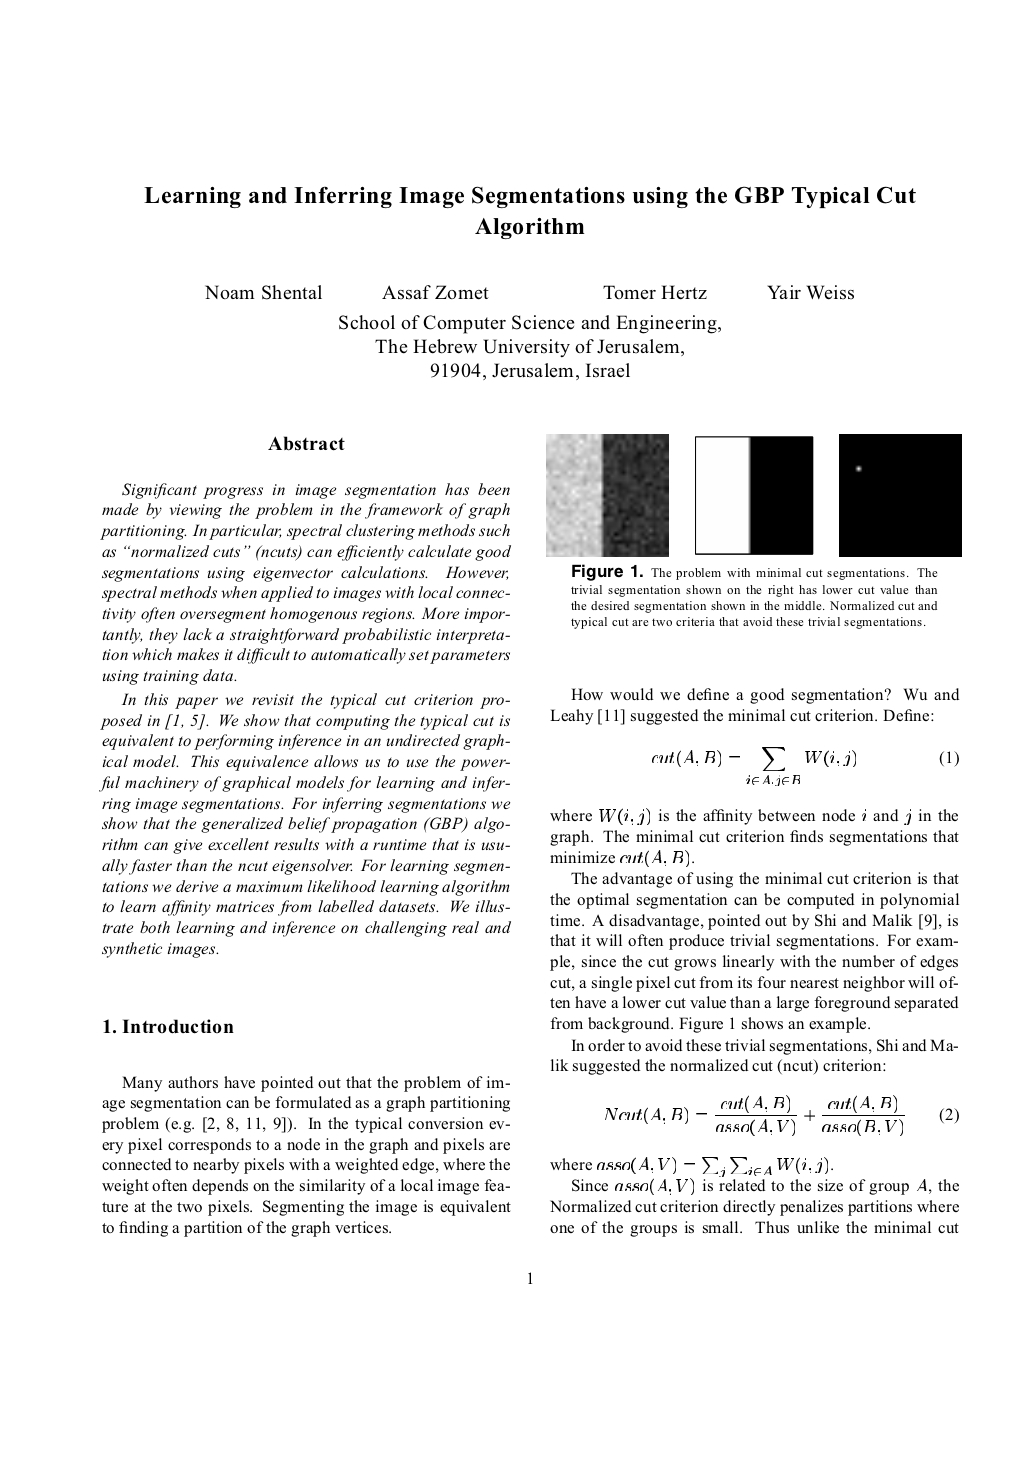figure: (546, 434, 668, 555), (839, 434, 961, 555), (695, 436, 813, 554)
formula: (605, 1094, 958, 1136), (652, 747, 958, 785), (550, 1157, 832, 1176)
